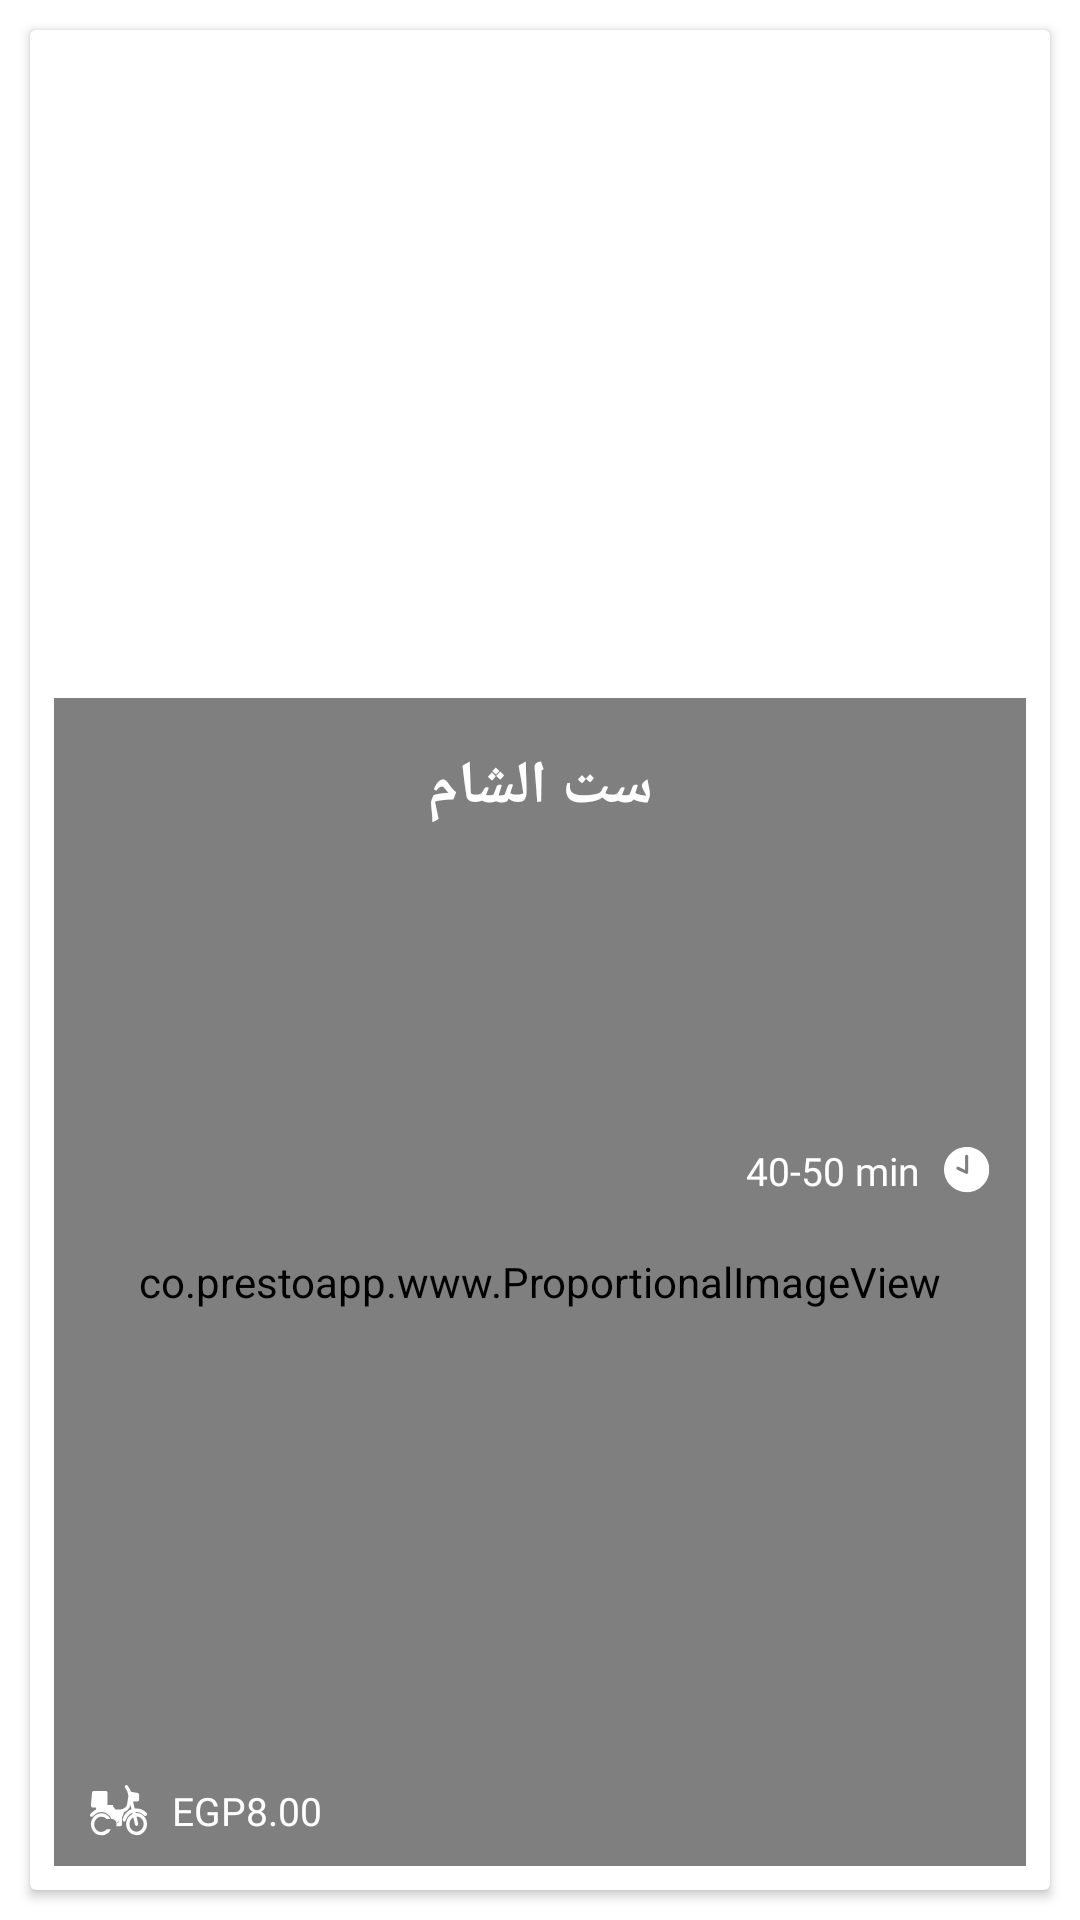

Icons on this 1080w x 1920h Android screen, each with the point to tap as (x=x, y=y):
clock: (x=966, y=1169)
vesba: (x=118, y=1810)
